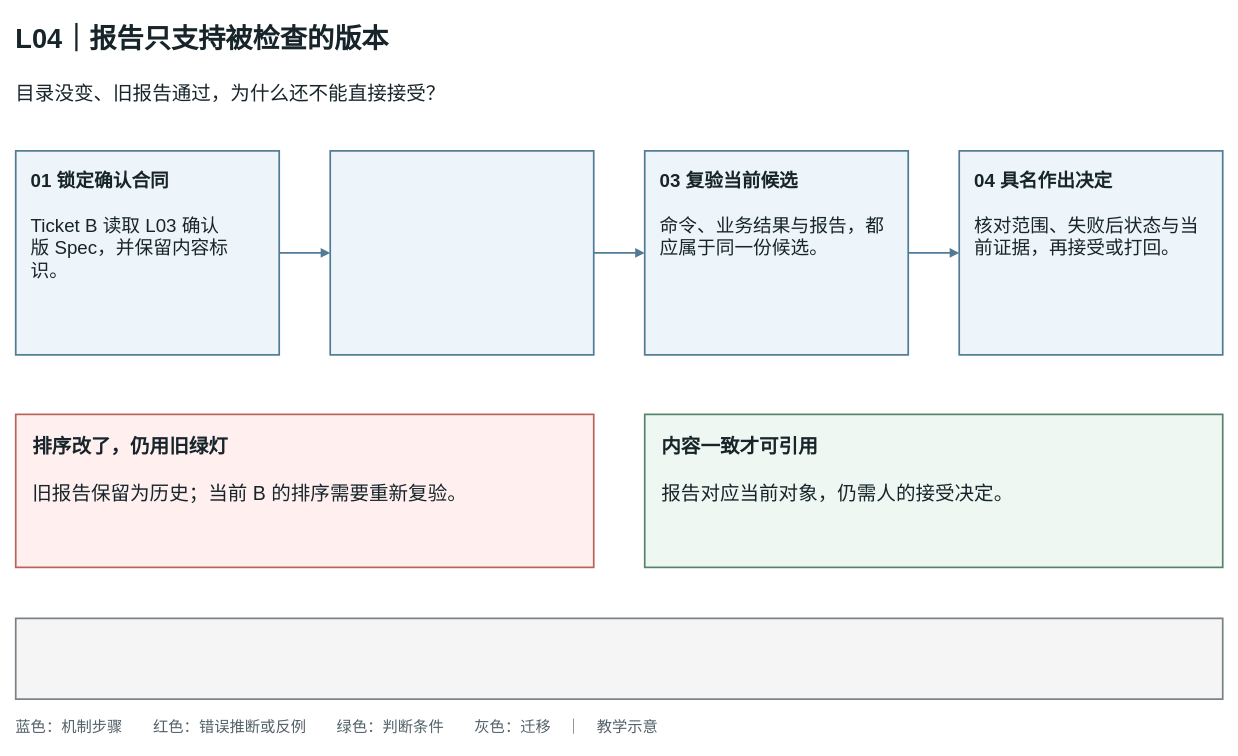
The diagram is 1238 pixels wide and 756 high, and some of its shapes have lost their labels. The shapes that lost their labels are listed below. From the top down, each one's centre as x and y in pixels, then its label:
the point at 461,252: 02 锁定候选内容 记录实际源码版本与 Diff； 目录名不能代替内容。
the point at 618,658: 先定位变化对象 B 加成本列重签合同；A 执行源码变化则重验 A。
